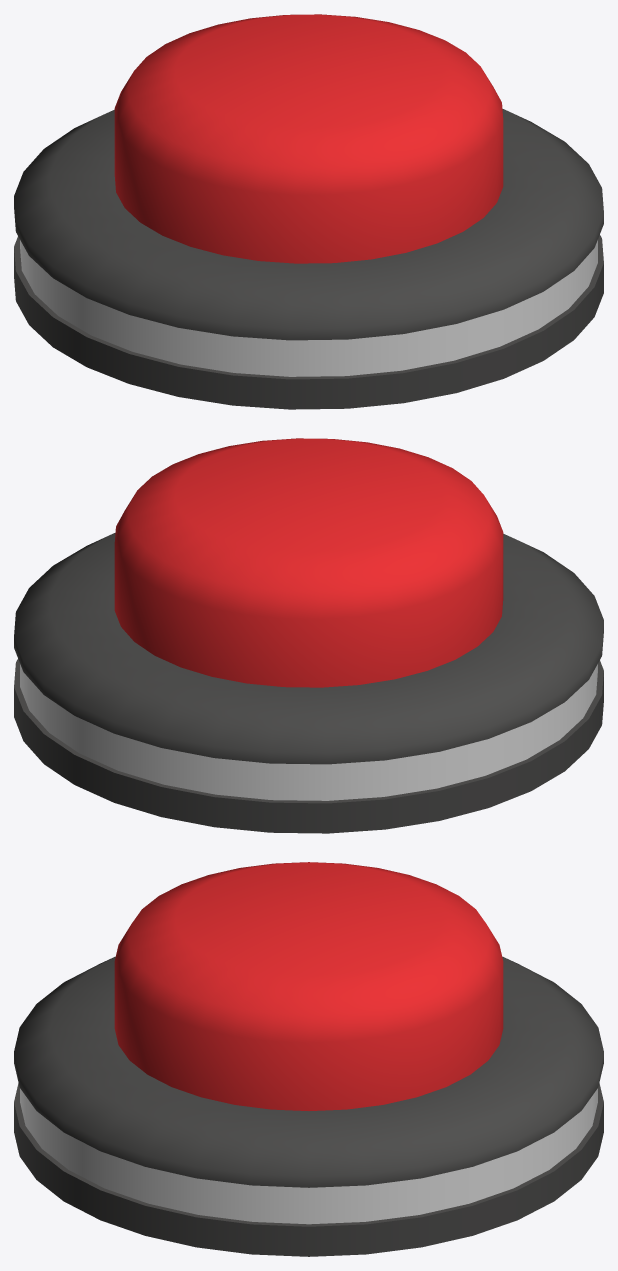
The model's file is mine2.fbx.
3 views of the same model, one above another, from view 1: azimuth 30°, elevation 25°; view 2: azimuth 150°, elevation 25°; view 3: azimuth 270°, elevation 25° (orthographic).
Visible parts, largest first — view 1: Circle.005, Circle.003; view 2: Circle.005, Circle.003; view 3: Circle.005, Circle.003.
Part boxes in pixels (x1,y1,x2,y2): Circle.005: [14, 108, 603, 409]; Circle.003: [114, 14, 503, 263]; Circle.005: [14, 532, 603, 833]; Circle.003: [114, 438, 503, 687]; Circle.005: [14, 956, 603, 1256]; Circle.003: [114, 862, 503, 1110].
Bounding box in the file's own units: 200 × 79.73 × 200.
